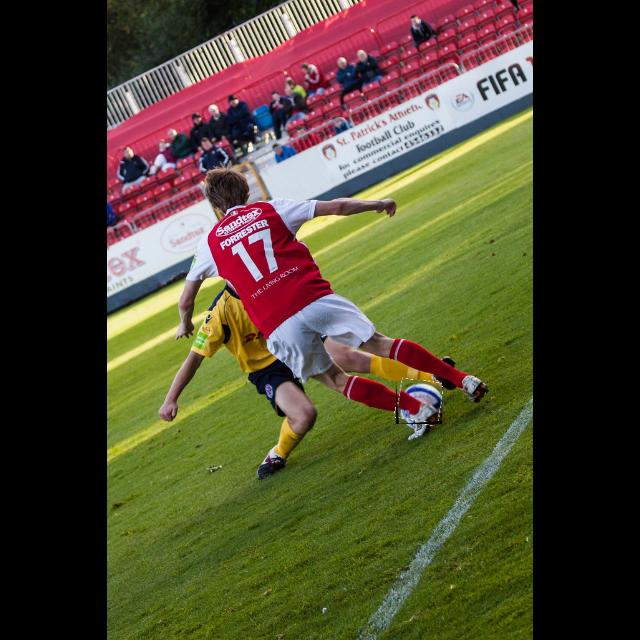Football: (396, 380, 442, 424)
